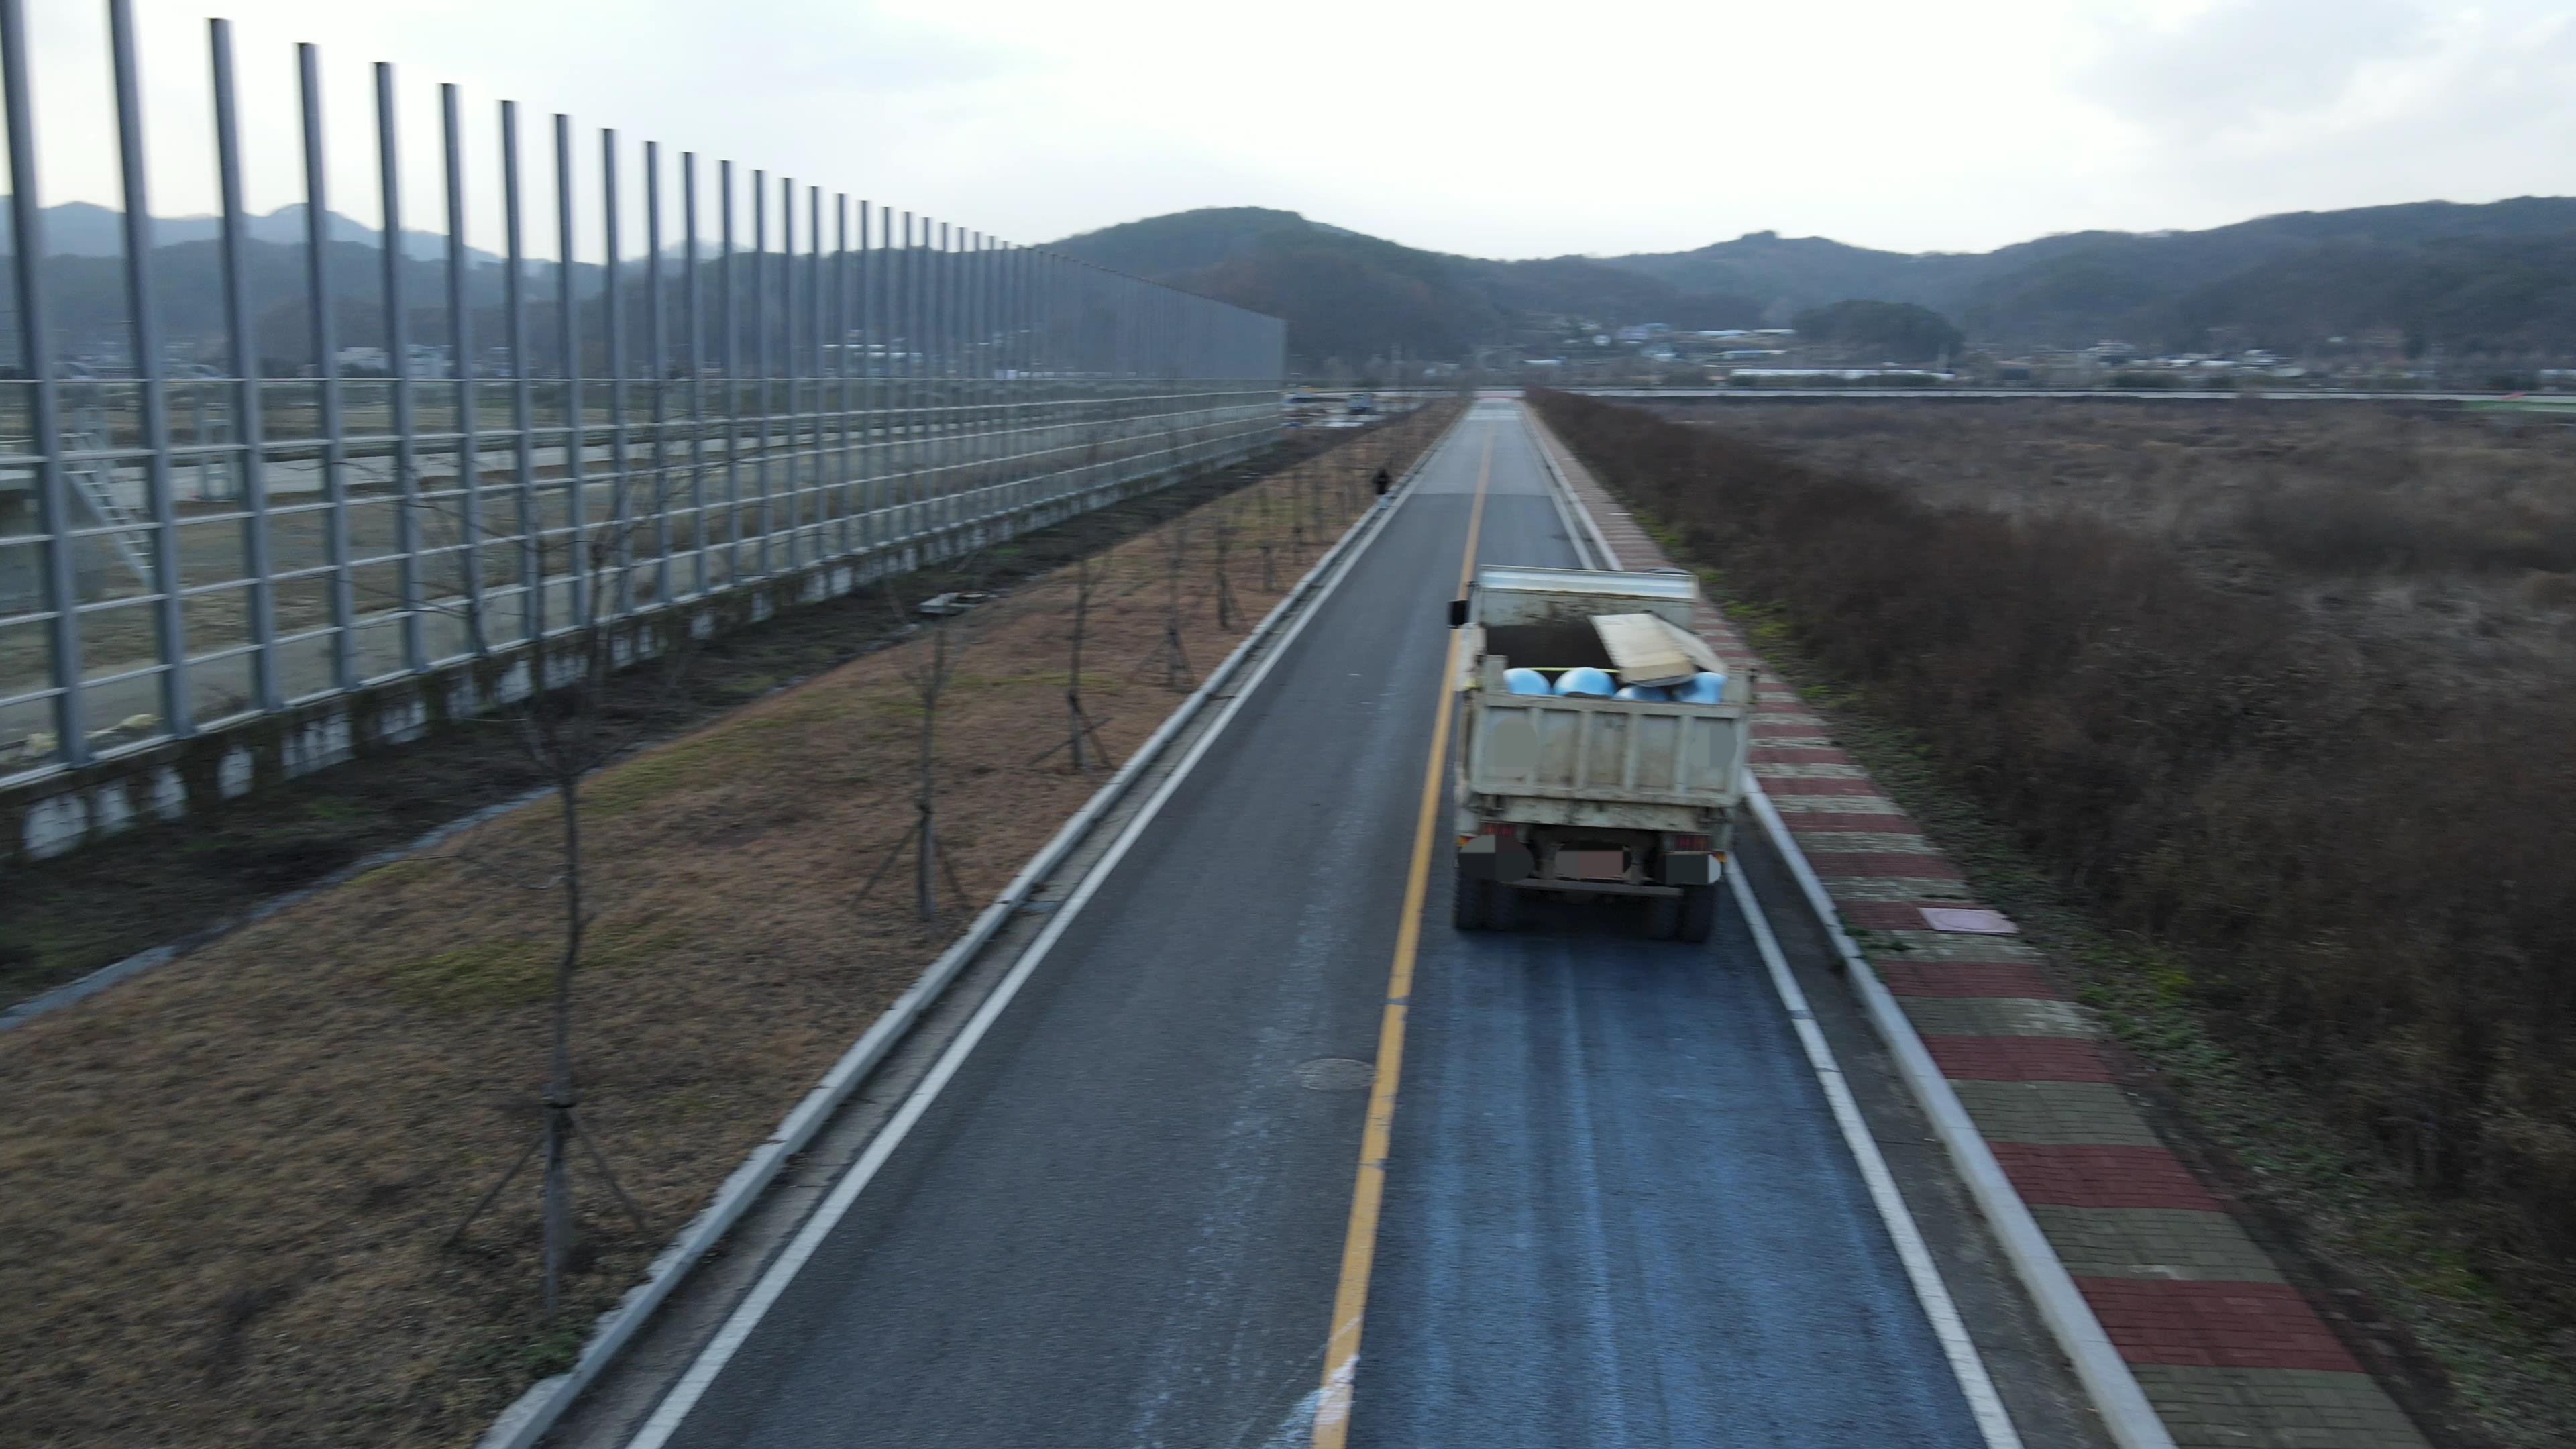불법차량: (1447, 568, 1759, 941)
